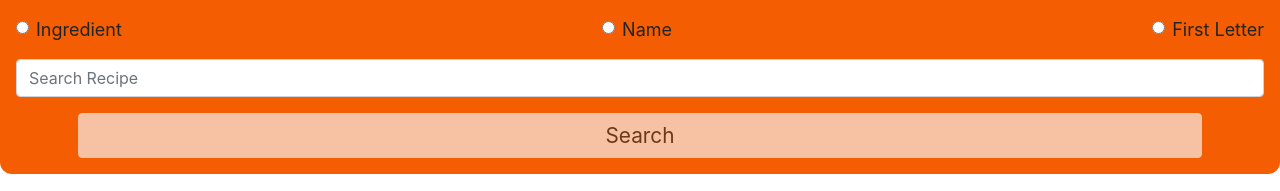
Scenario: Testes da barra de pesquisa › Deve aparecer um alerta quando colocar mais de uma letra no input e selecionar "First-Letter"
The image size is (1280, 191).
Click the radio button with test id "first-letter-search-radio" at (1159, 27), box [1152,21,1165,34]
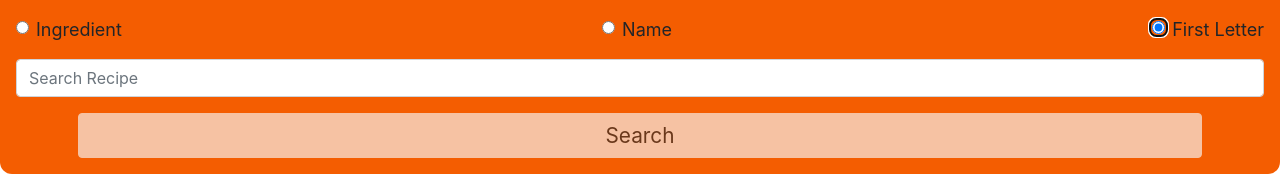
Type "co" into the field with test id "search-input" at (640, 78), box [16,59,1264,97]
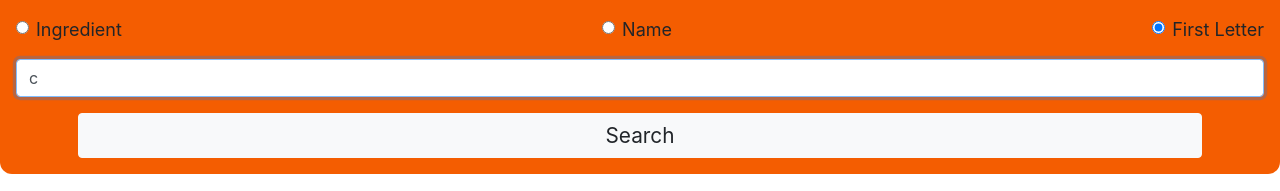
Now the field with test id "search-input" holds "c", box [16,59,1264,97]
